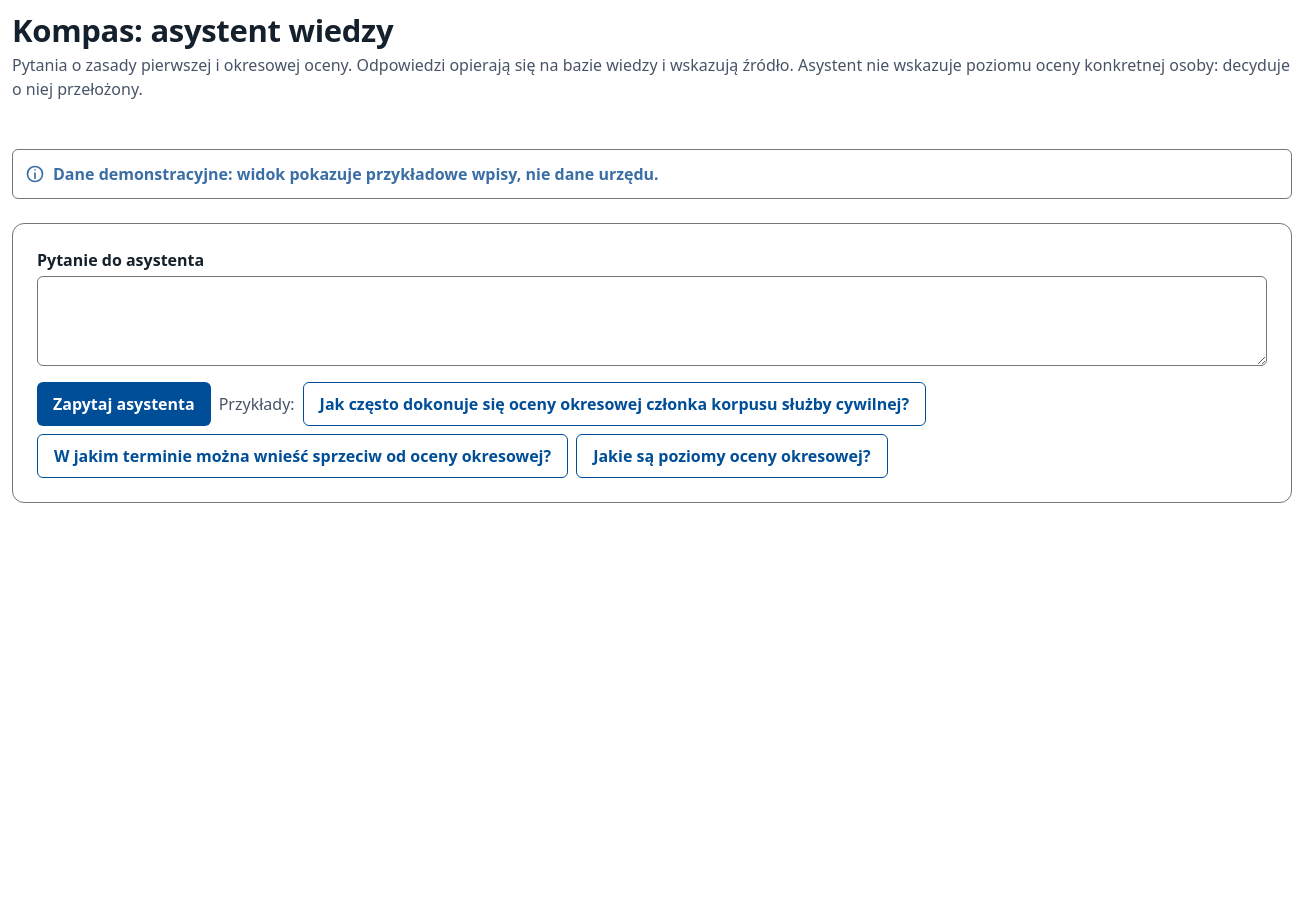
Test: AssistantPage › shows a possible conflict and asks for manual verification
Type "Jaki jest termin?" into the text box labelled "Pytanie do asystenta". click: (652, 321)
box: [37,276,1267,366]
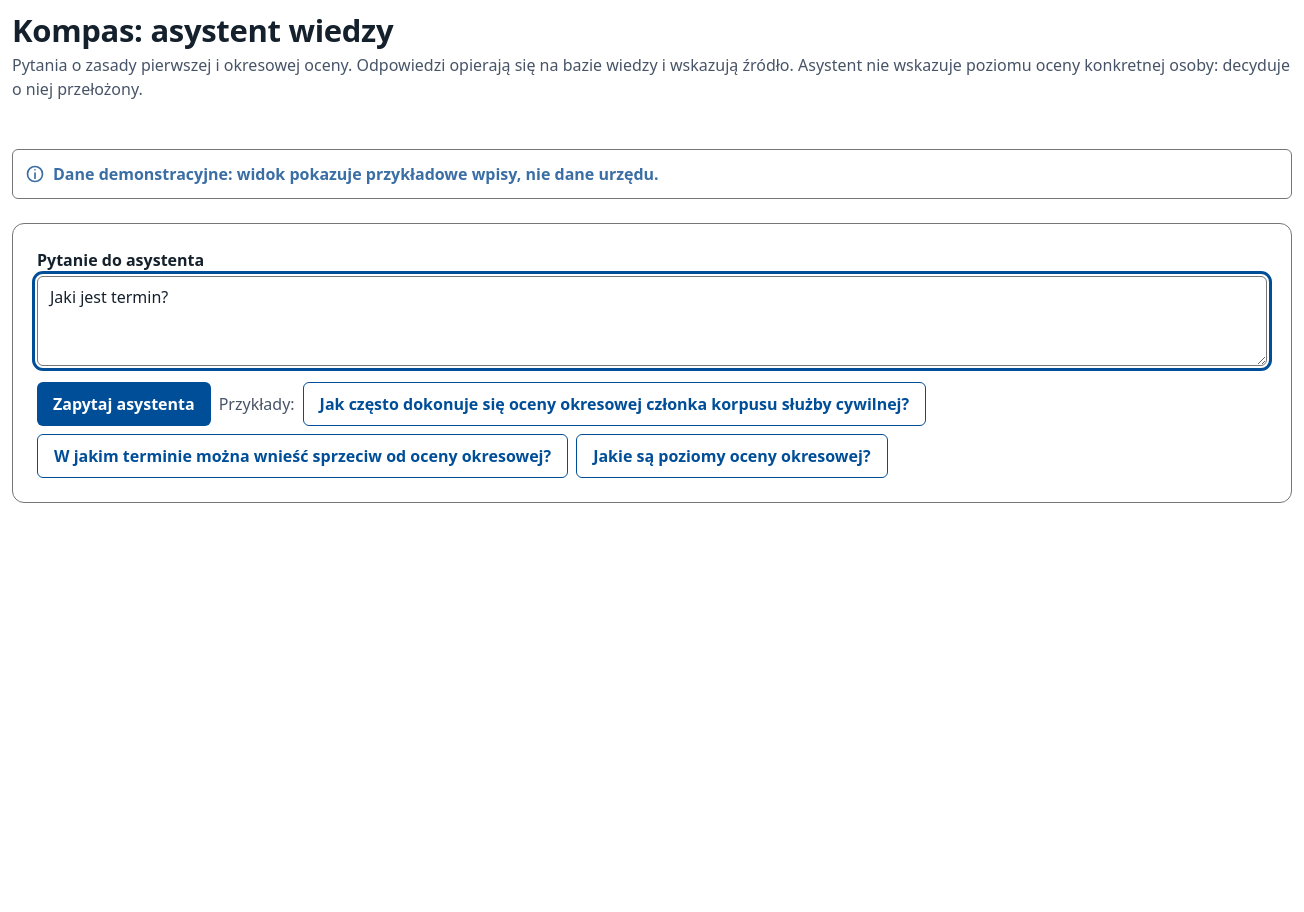
Click the button "Zapytaj asystenta". click: (124, 404)
box: [37,382,211,426]
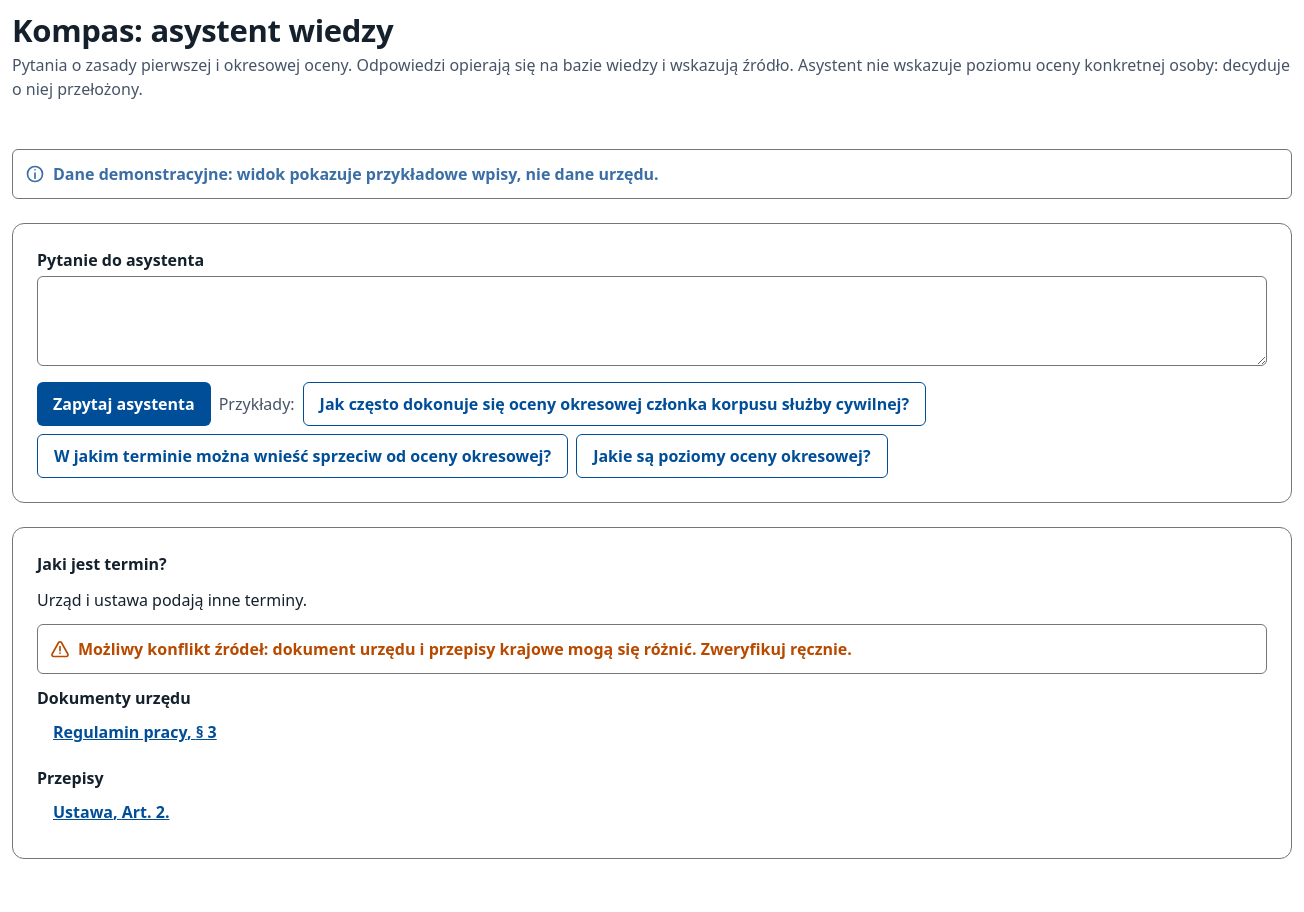
Expected: the text "Możliwy konflikt źródeł" shows "Zweryfikuj ręcznie", [78,638,852,660]
